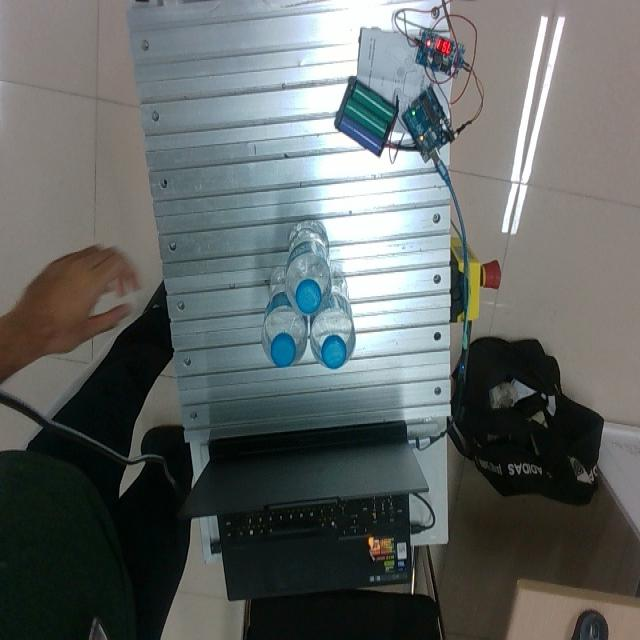lavie: (309, 266, 355, 371), (284, 221, 333, 319), (261, 267, 308, 369)
